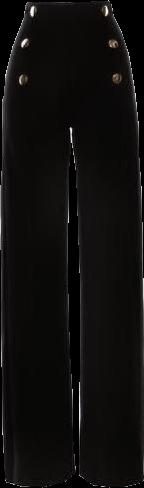Hemline: (3, 468, 76, 487), (76, 471, 143, 487)
Pantleg: (68, 0, 143, 486), (2, 2, 74, 486)
Waistline: (20, 12, 114, 24), (22, 0, 112, 8)
